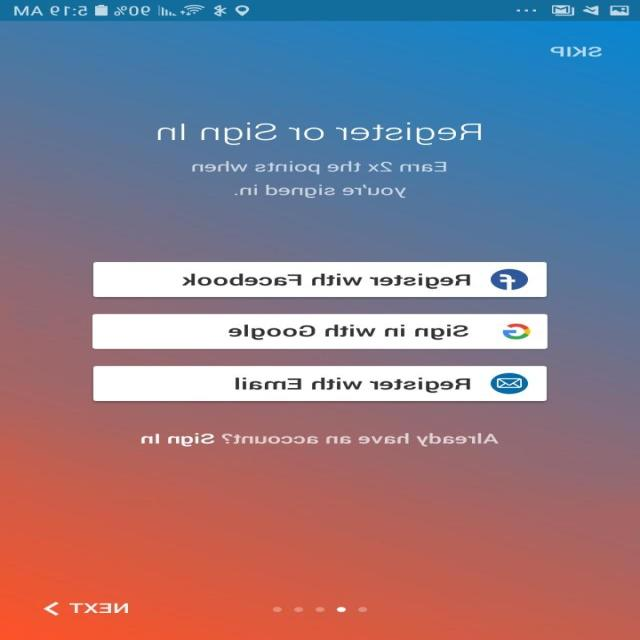Icon: (44, 600, 60, 616)
Text: (192, 161, 447, 198), (158, 122, 483, 146), (142, 432, 499, 446), (69, 602, 129, 613), (550, 46, 603, 57)
TextButton: (92, 313, 548, 349), (93, 261, 548, 297), (93, 366, 547, 401)
